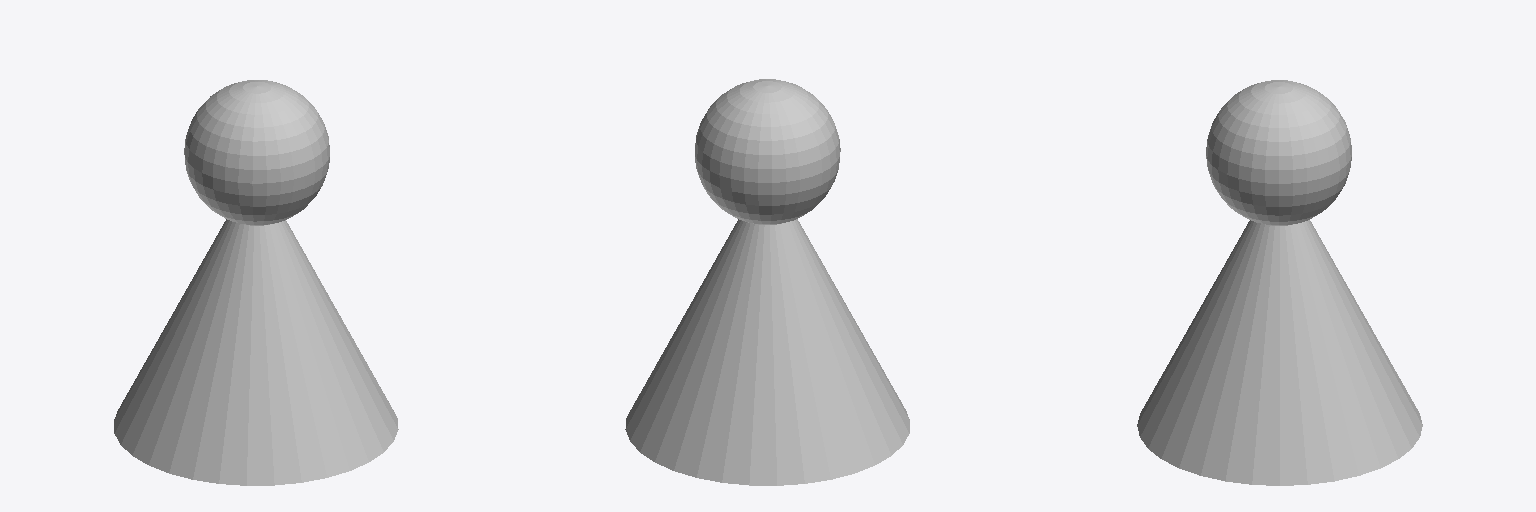
File: Character.obj
The picture shows the model from 3 angles: view 1: azimuth 30°, elevation 25°; view 2: azimuth 150°, elevation 25°; view 3: azimuth 270°, elevation 25°; orthographic projection.
Parts seen in each view (by area): view 1: Cone, Sphere; view 2: Cone, Sphere; view 3: Cone, Sphere.
Part boxes in pixels (x1,y1,x2,y2): Cone: (114, 219, 398, 485); Sphere: (184, 80, 329, 225); Cone: (625, 219, 909, 485); Sphere: (695, 79, 840, 224); Cone: (1137, 220, 1422, 485); Sphere: (1206, 80, 1351, 225).
Bounding box in the file's own units: 2 × 2.62 × 2.